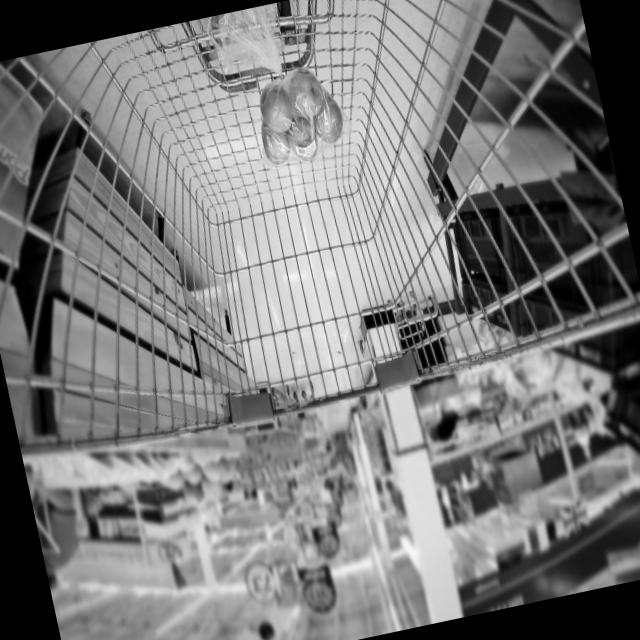tao: (245, 60, 352, 174)
